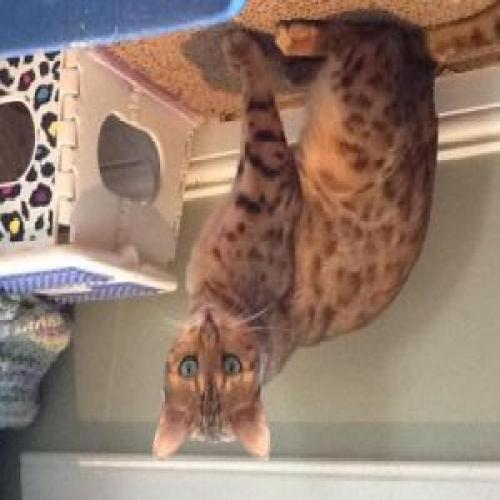cat-face: (136, 298, 278, 467)
